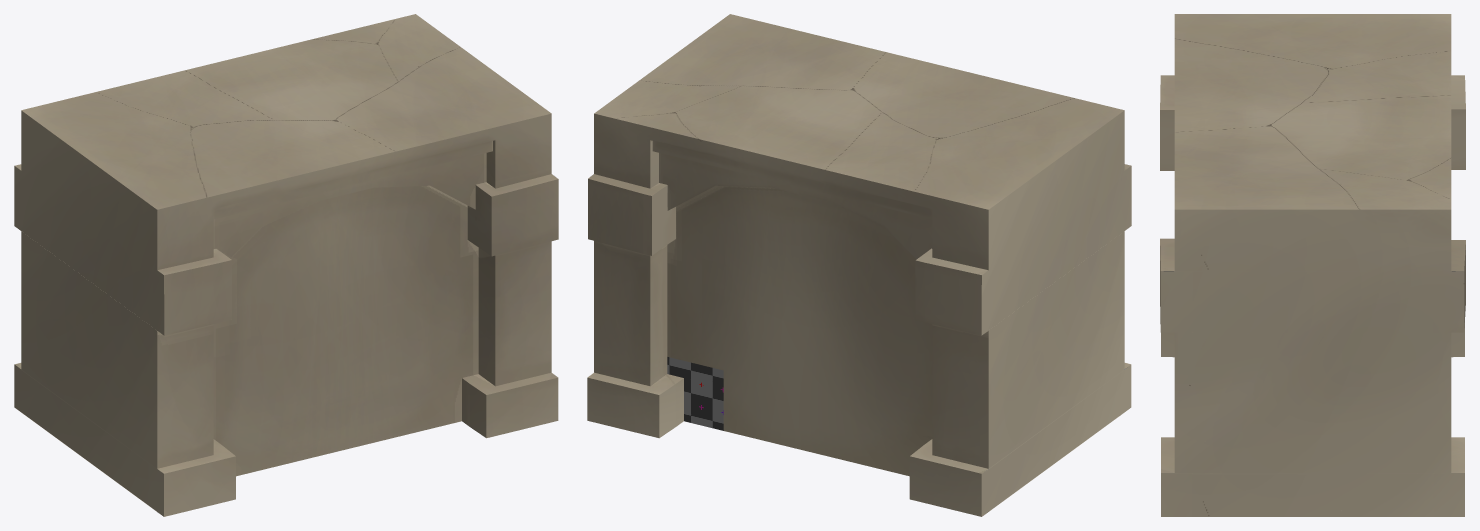
Rendered from path.fbx.
The picture shows the model from 3 angles, left to right: view 1: azimuth 30°, elevation 25°; view 2: azimuth 150°, elevation 25°; view 3: azimuth 270°, elevation 25°; orthographic projection.
Visible parts, largest first — view 1: path; view 2: path; view 3: path.
Boxes of the visible parts, x1,y1,x2,y2 form: path: [14, 14, 558, 516]; path: [587, 14, 1131, 516]; path: [1160, 14, 1465, 516].
Bounding box in the file's own units: 509 × 373 × 336.
